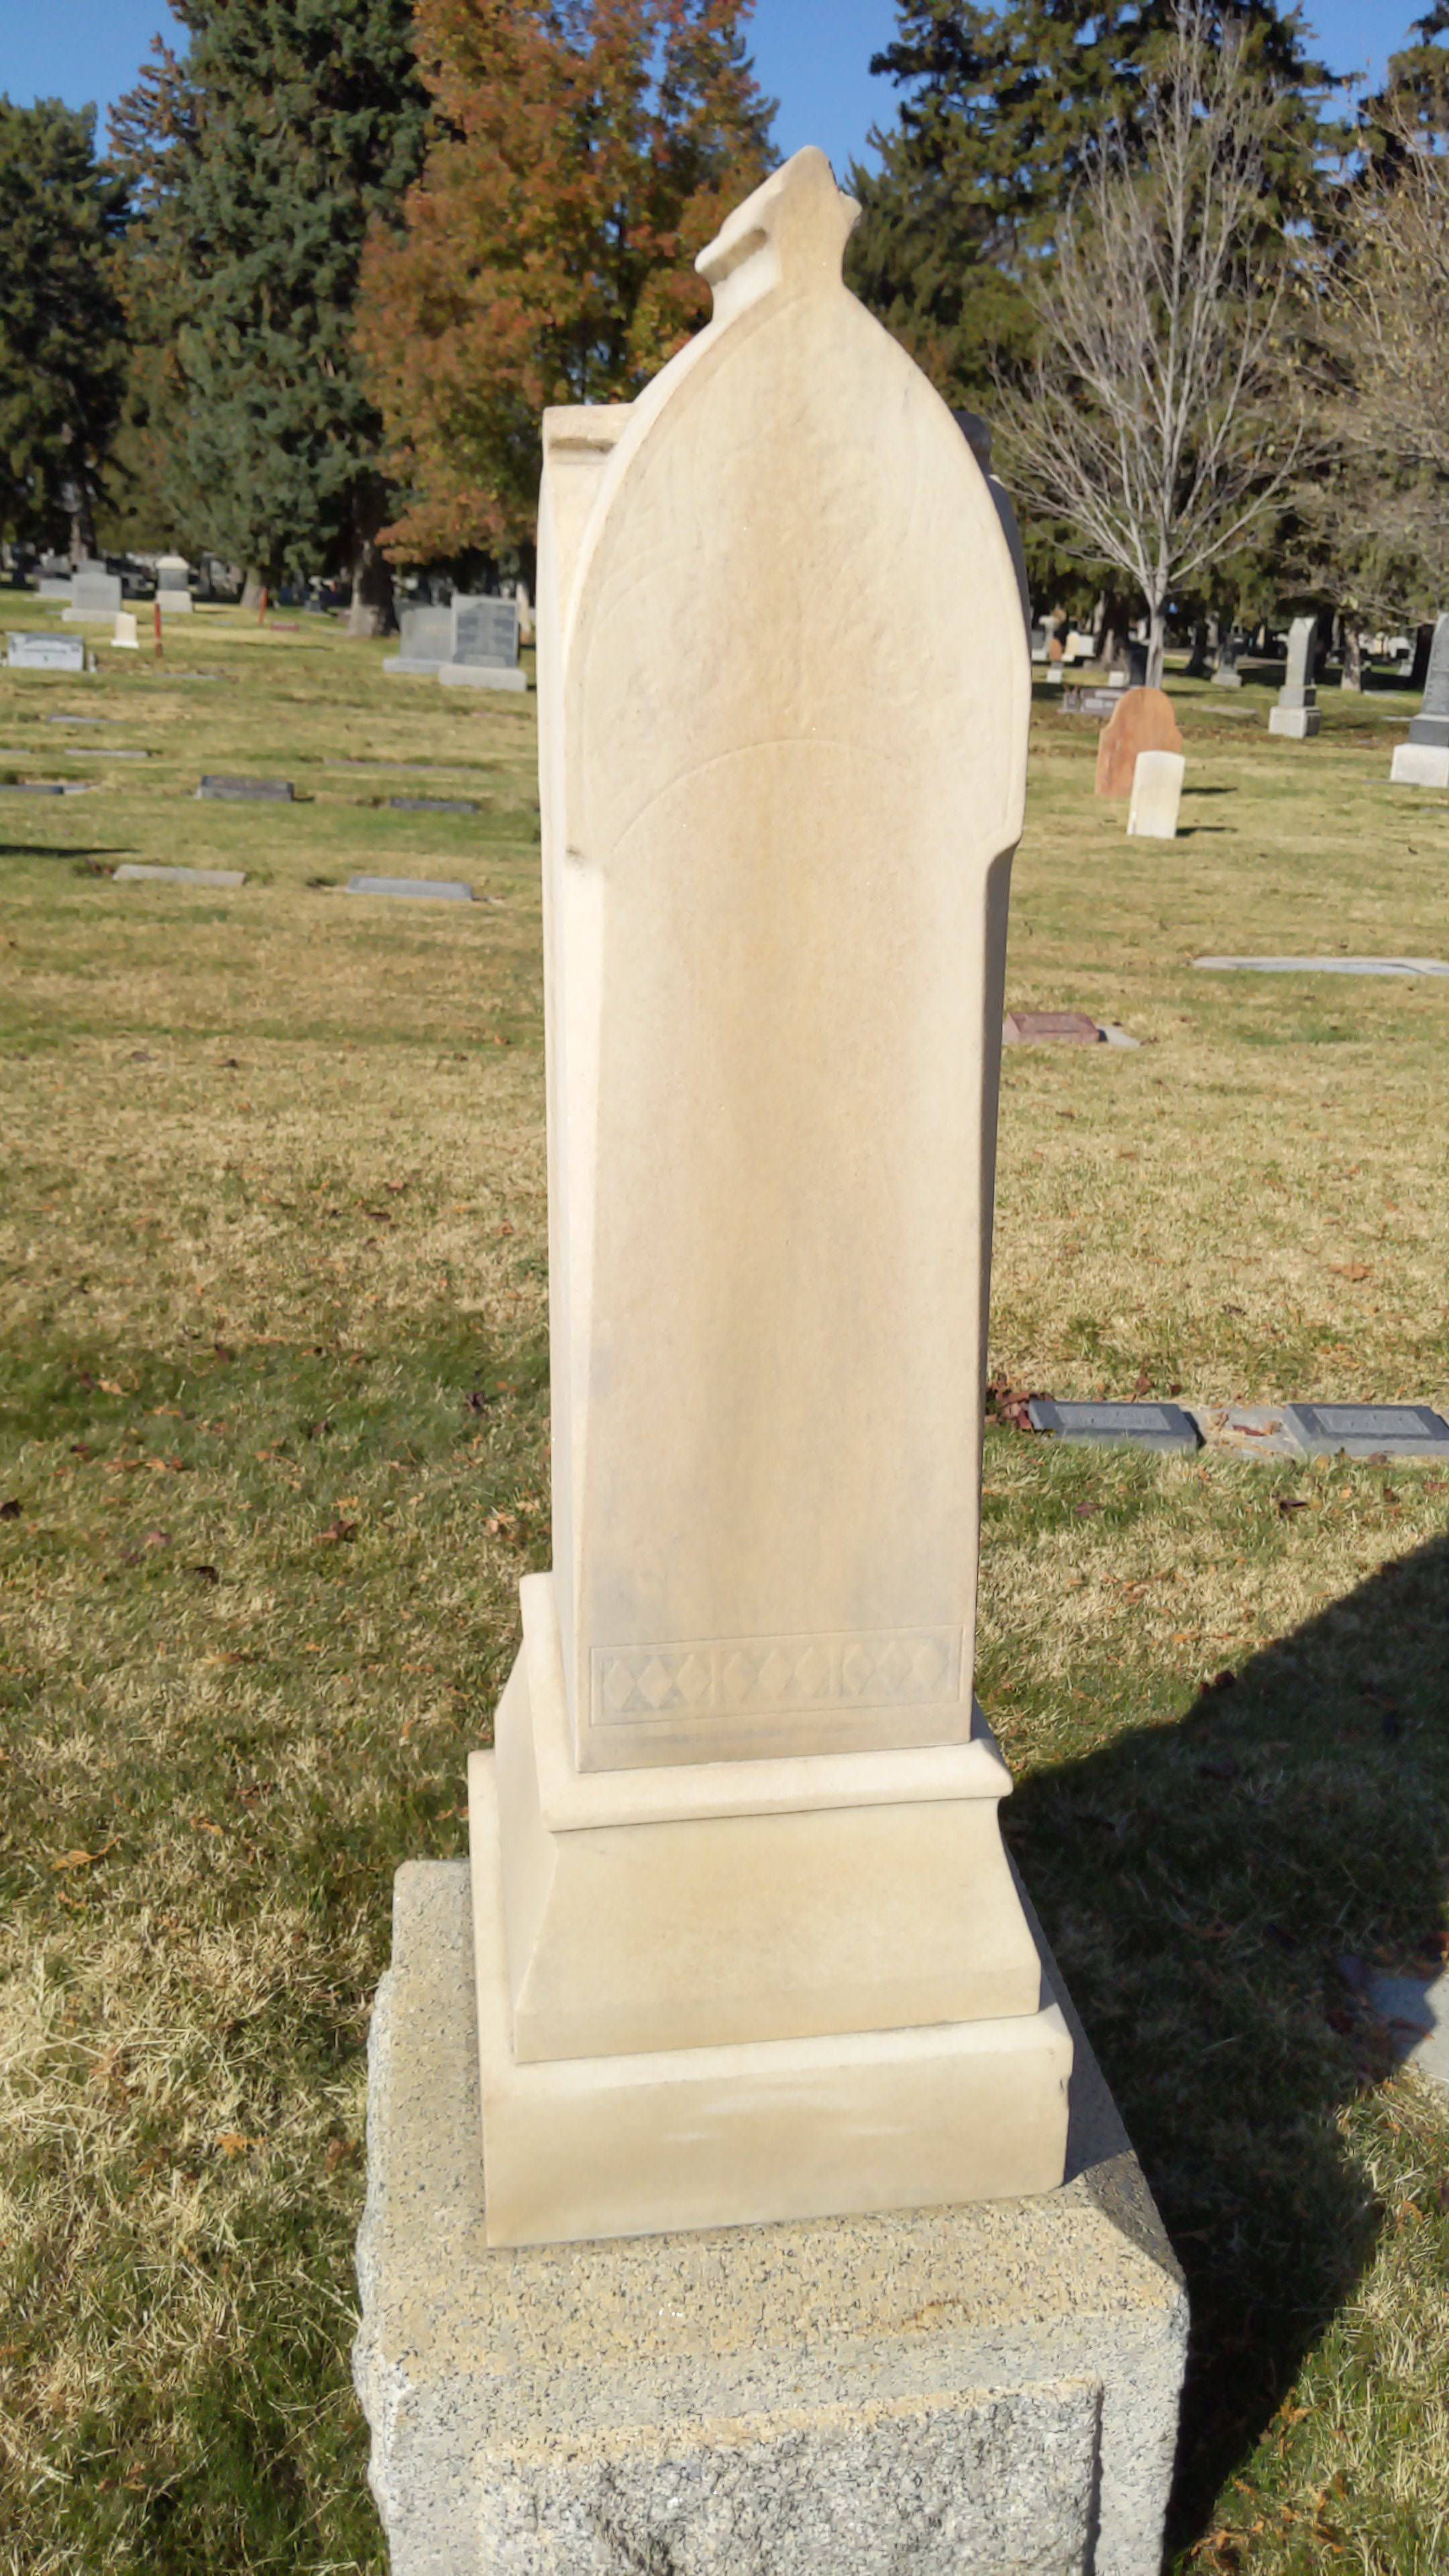obelisk: (469, 150, 1070, 2268)
